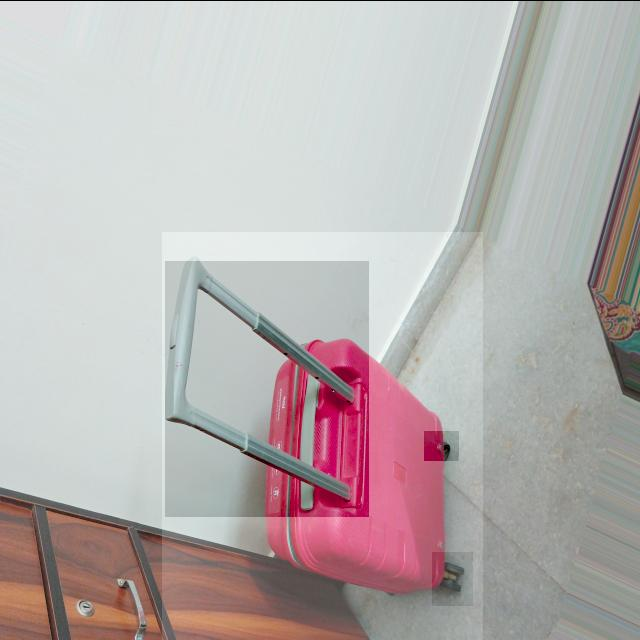Bag: (164, 248, 485, 600)
Handle: (166, 264, 367, 520)
